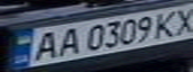0: (81, 21, 106, 52), (118, 16, 142, 46)
3: (103, 19, 124, 48)
9: (133, 14, 160, 43)
A: (27, 29, 63, 62), (54, 25, 84, 57)
K: (151, 8, 184, 38)
X: (169, 6, 193, 35)
